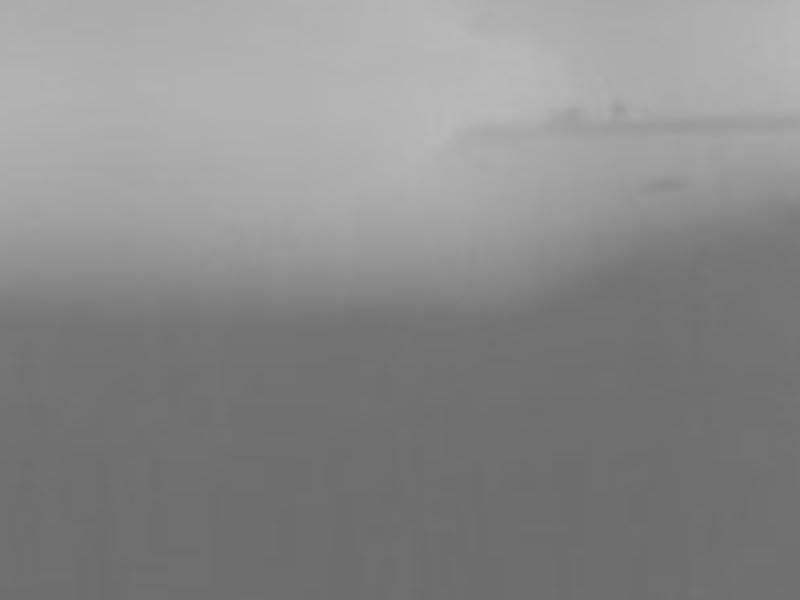defect: (550, 103, 587, 127), (605, 98, 630, 119)
